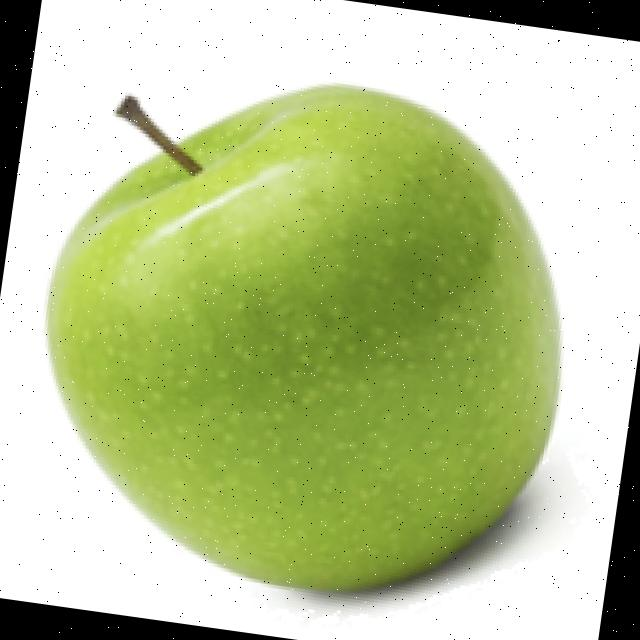apple: (39, 78, 591, 626)
